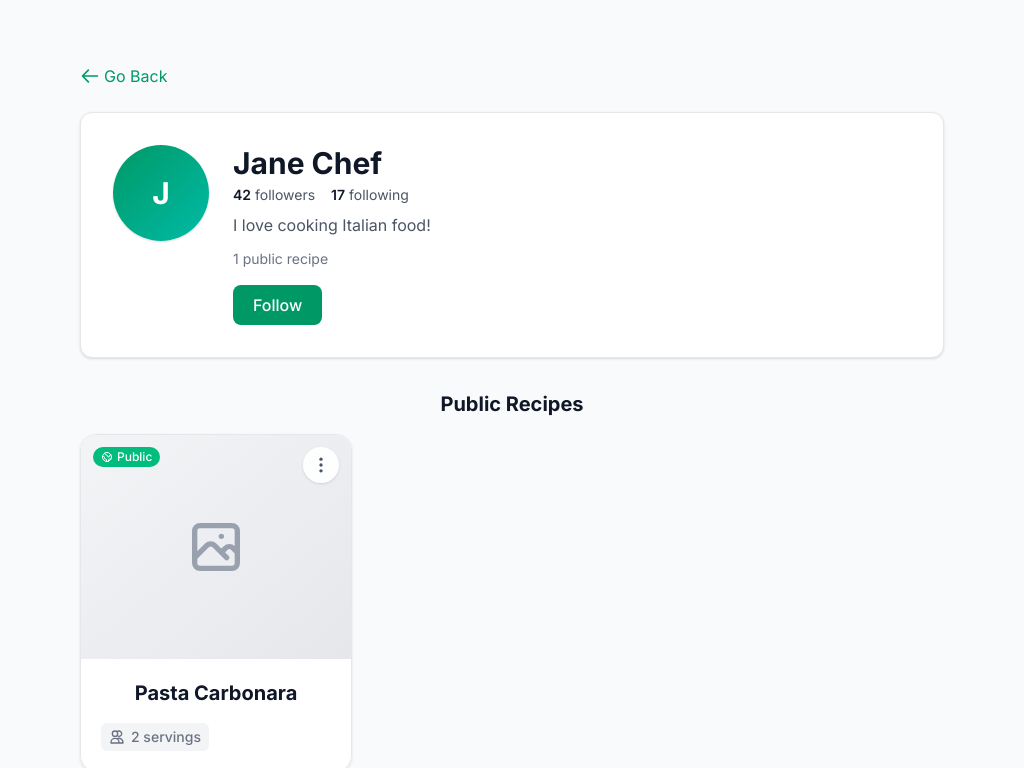
Scenario: UserProfilePage › opens followers modal when followers count is clicked
Expected: the text "42" is shown, x1=233 y1=186 x2=251 y2=203
Click the button "42 followers": (274, 195) x1=233 y1=185 x2=315 y2=205
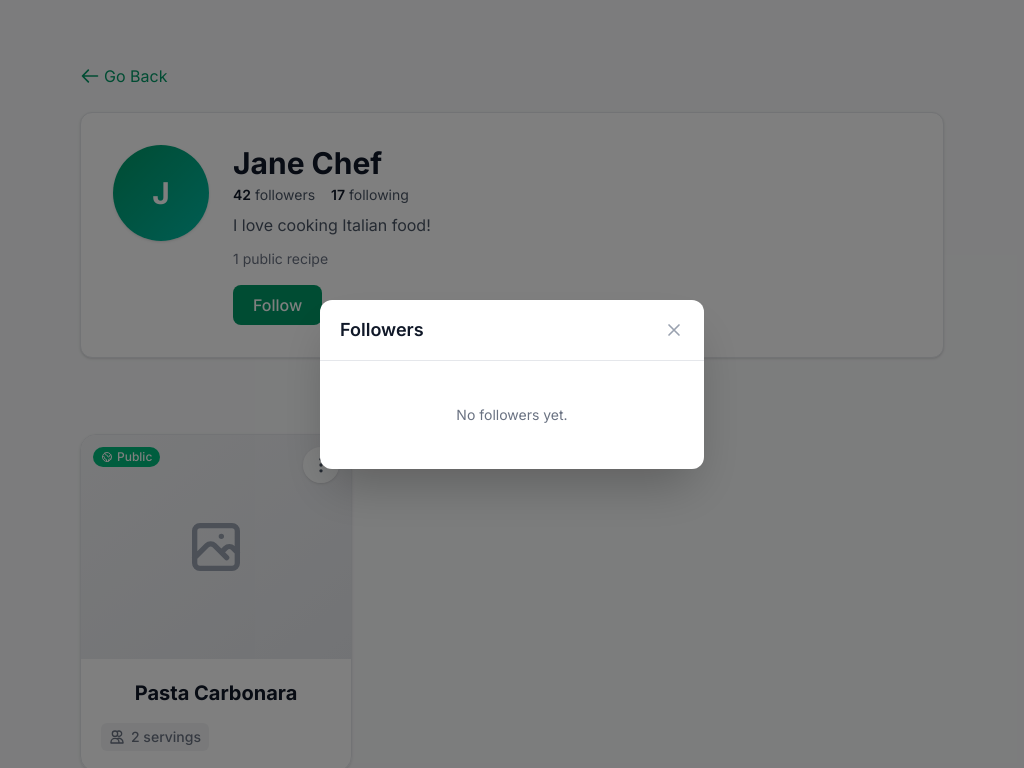
Now the dialog "Followers" is shown, box x1=320 y1=300 x2=704 y2=468
